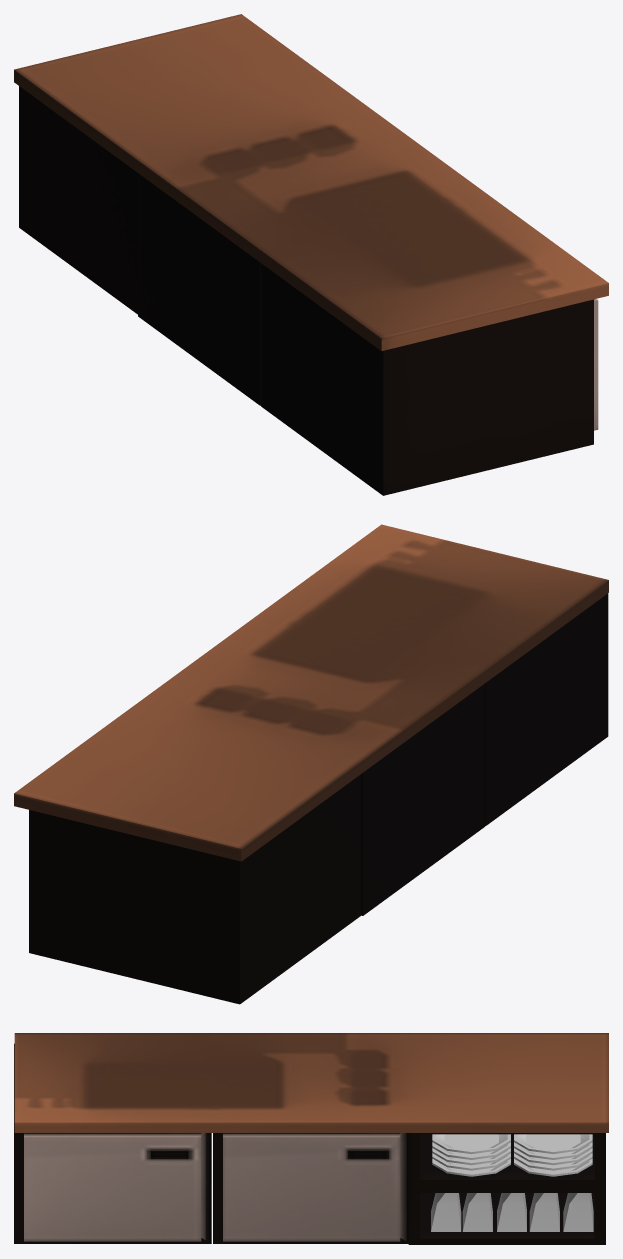
The model's file is Tx_props_long_counter_10.fbx.
3 renders of one model, top to bottom at view 1: azimuth 30°, elevation 25°; view 2: azimuth 150°, elevation 25°; view 3: azimuth 270°, elevation 25°, orthographic. The views are drawn at different scales.
Parts seen in each view (by area): view 1: polySurface46, polySurface8, polySurface48, polySurface47; view 2: polySurface46, polySurface47, polySurface48, polySurface8; view 3: polySurface46, polySurface8, polySurface48, polySurface47, polySurface76, polySurface77, polySurface70, polySurface56, polySurface81, polySurface54, polySurface58, polySurface69 (+7 smaller).
Boxes of the visible parts, x1,y1,x2,y2 form: polySurface46: (14, 14, 608, 351); polySurface8: (261, 263, 598, 495); polySurface48: (138, 173, 260, 405); polySurface47: (19, 86, 137, 314); polySurface46: (14, 524, 608, 861); polySurface47: (29, 774, 360, 1004); polySurface48: (361, 683, 485, 915); polySurface8: (485, 593, 608, 825); polySurface46: (14, 1033, 608, 1132); polySurface8: (14, 1043, 211, 1243); polySurface48: (213, 1133, 408, 1243); polySurface47: (408, 1133, 605, 1244); polySurface76: (514, 1134, 592, 1154); polySurface77: (432, 1134, 510, 1154); polySurface70: (563, 1193, 593, 1231); polySurface56: (431, 1193, 461, 1231); polySurface81: (529, 1193, 559, 1231); polySurface54: (462, 1193, 492, 1231); polySurface58: (497, 1193, 526, 1231); polySurface69: (432, 1159, 510, 1176).
Size of the model in its own units: 4.81 by 3.19 by 13.48.
